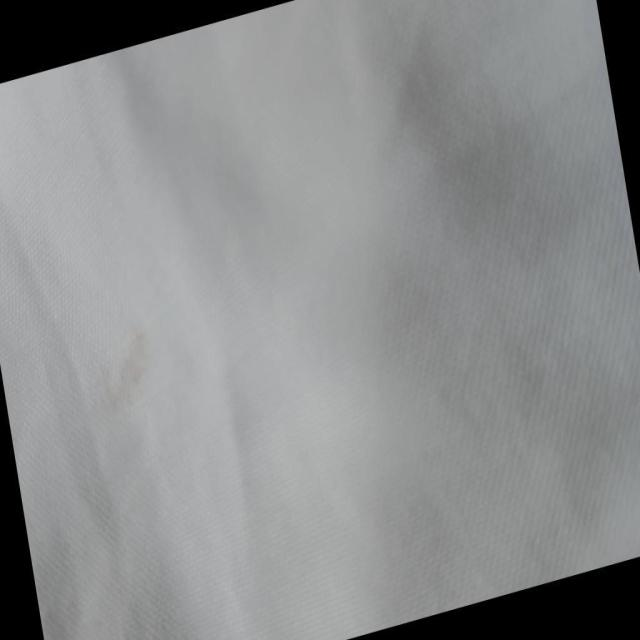stain: (88, 310, 166, 421)
